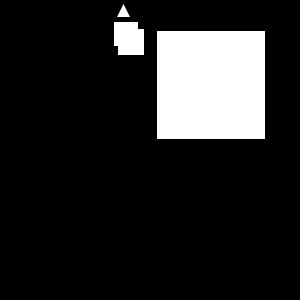circle: (157, 31, 265, 139), (118, 29, 144, 55), (114, 22, 138, 46)
triangle: (117, 4, 130, 17)
